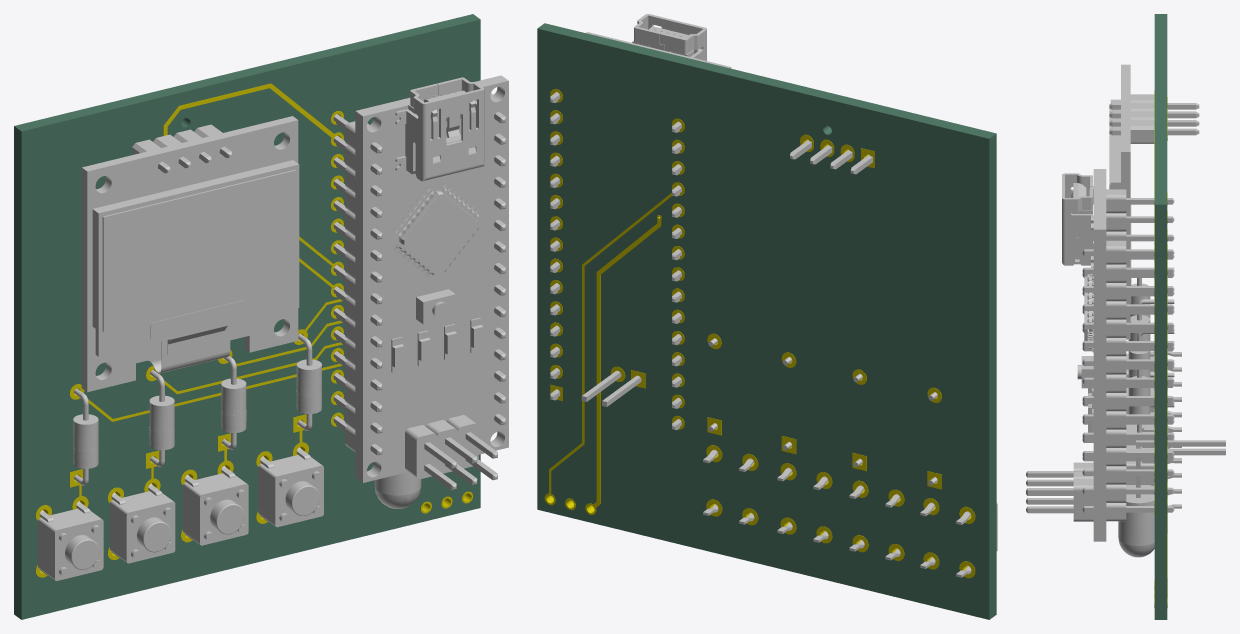
Rendered from oscilloscope.glb.
3 views of the same model, side by side, from view 1: azimuth 30°, elevation 25°; view 2: azimuth 150°, elevation 25°; view 3: azimuth 270°, elevation 25° (orthographic). The views are drawn at different scales.
Parts seen in each view (by area): view 1: empty_389, empty_63, empty_115, empty_109, empty_66, empty_147, empty_112, empty_151, empty_153, empty_4, empty_155, empty_22 (+14 smaller); view 2: empty_389, empty_66, empty_176, empty_152; view 3: empty_389, empty_65, empty_63, empty_152, empty_66, empty_109, empty_93, empty_92, empty_12, empty_153, empty_2, empty_151 (+26 smaller).
Part boxes in pixels (x1,y1,x2,y2): empty_389: [14, 14, 480, 619]; empty_63: [355, 75, 508, 482]; empty_115: [115, 186, 283, 310]; empty_109: [81, 116, 298, 392]; empty_66: [395, 77, 484, 181]; empty_147: [95, 162, 299, 356]; empty_112: [102, 170, 296, 331]; empty_151: [183, 465, 248, 545]; empty_153: [258, 447, 323, 527]; empty_4: [110, 483, 175, 563]; empty_155: [38, 501, 103, 580]; empty_22: [399, 190, 478, 272]; empty_389: [537, 23, 996, 619]; empty_66: [632, 14, 706, 60]; empty_176: [596, 271, 600, 504]; empty_152: [581, 370, 641, 406]; empty_389: [1154, 14, 1167, 619]; empty_65: [1106, 240, 1126, 521]; empty_63: [1093, 169, 1106, 541]; empty_152: [1118, 440, 1225, 557]; empty_66: [1062, 173, 1093, 267]; empty_109: [1121, 64, 1130, 339]; empty_93: [1130, 94, 1154, 143]; empty_92: [1106, 189, 1126, 240]; empty_12: [1073, 462, 1093, 521]; empty_153: [1126, 445, 1181, 508]; empty_2: [1128, 360, 1174, 437]; empty_151: [1126, 410, 1181, 478].
Size of the model in its own units: 56.6 by 57.55 by 25.1.
